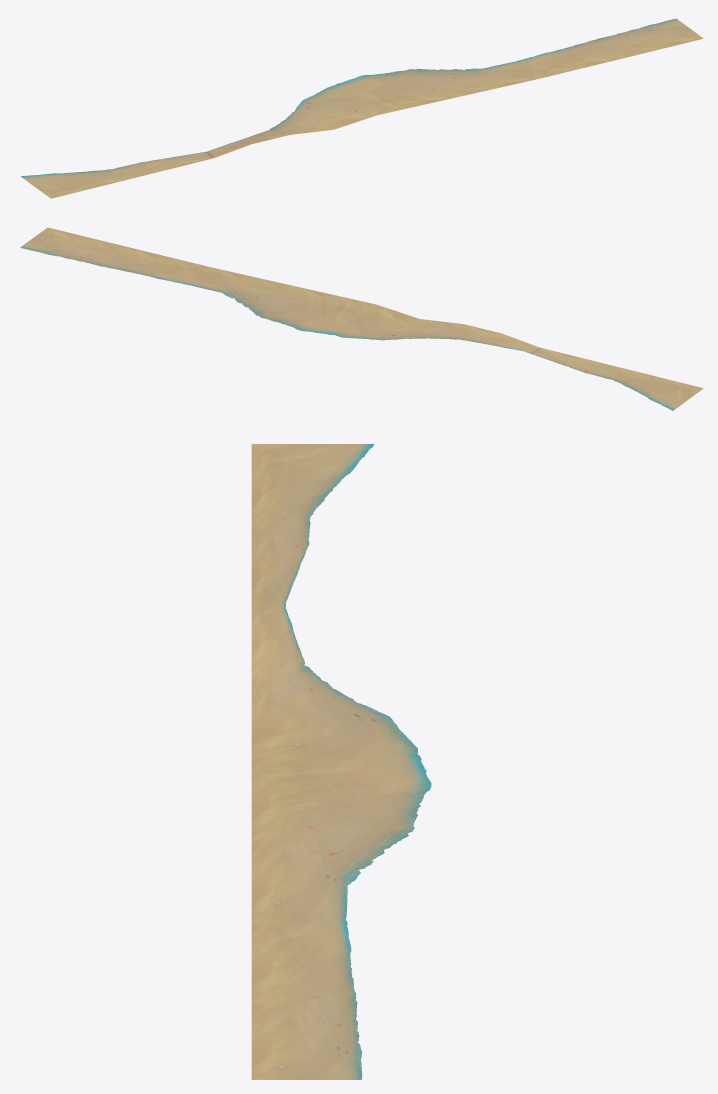
The model's file is shatan.FBX.
3 renders of one model, top to bottom at view 1: azimuth 30°, elevation 25°; view 2: azimuth 150°, elevation 25°; view 3: azimuth 270°, elevation 25°, orthographic. The views are drawn at different scales.
Parts seen in each view (by area): view 1: shatan; view 2: shatan; view 3: shatan.
Part boxes in pixels (x1,y1,x2,y2): shatan: (21, 18, 703, 198); shatan: (20, 227, 703, 410); shatan: (251, 444, 431, 1079).
Bounding box in the file's own units: 3437 × 28.08 × 490.
